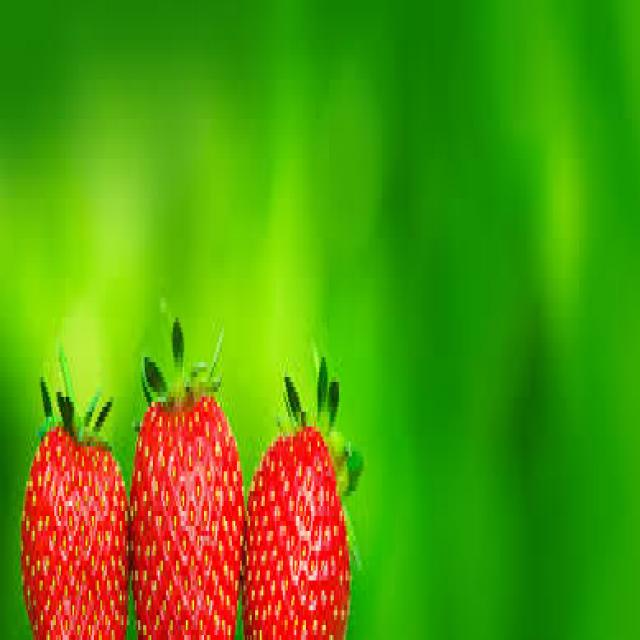organic waste: (126, 298, 244, 635), (240, 357, 360, 635), (18, 342, 127, 635)
